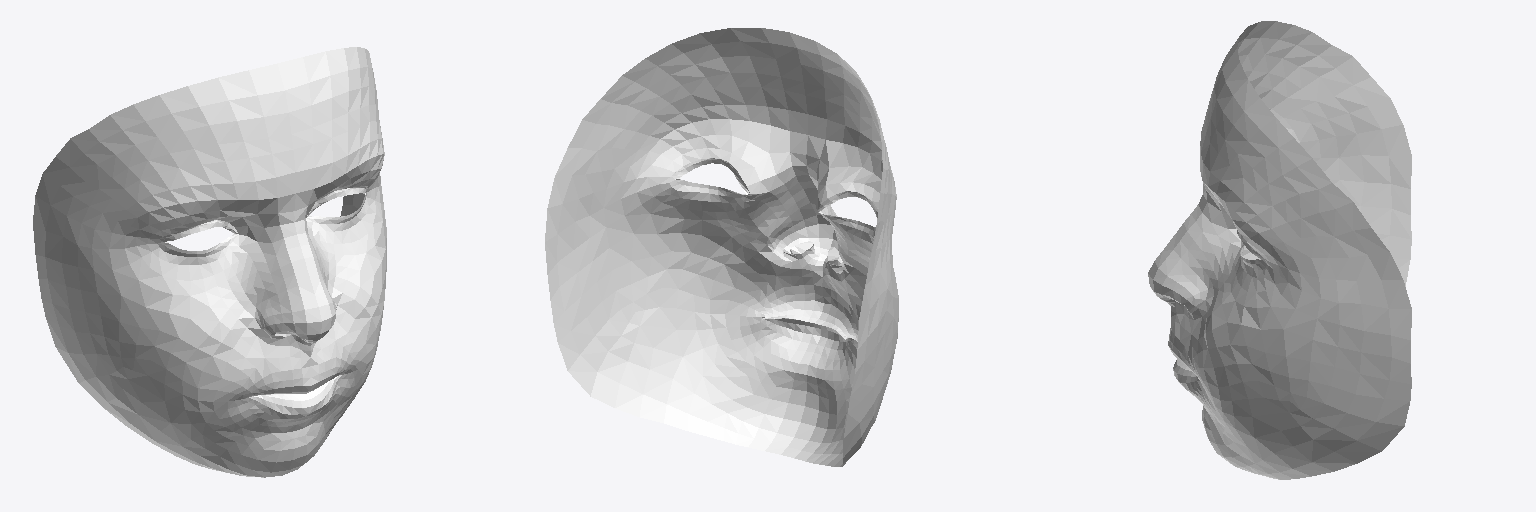
The model's file is cheekPuff.obj.
3 views of the same model, side by side, from view 1: azimuth 30°, elevation 25°; view 2: azimuth 150°, elevation 25°; view 3: azimuth 270°, elevation 25° (orthographic).
Visible parts, largest first — view 1: default; view 2: default; view 3: default.
Boxes of the visible parts, <box> form: default: <box>33,47,386,477</box>; default: <box>545,28,898,466</box>; default: <box>1148,21,1411,479</box>.
Bounding box in the file's own units: 0.1447 × 0.1812 × 0.1042.